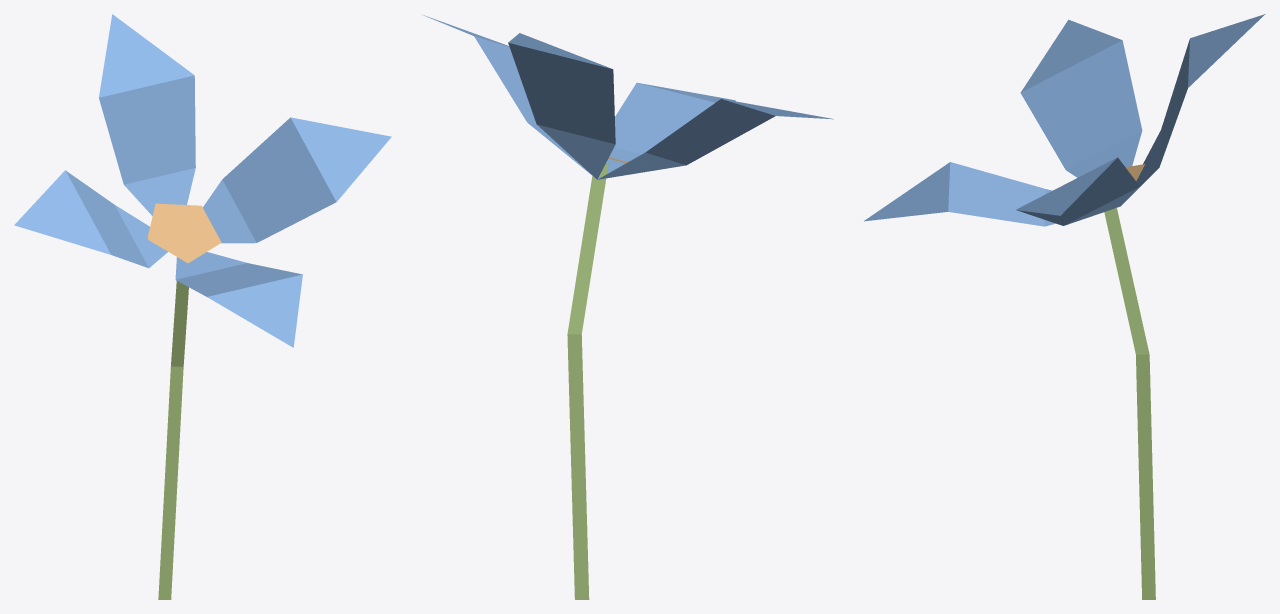
Rendered from flower4.fbx.
3 renders of one model, left to right at view 1: azimuth 30°, elevation 25°; view 2: azimuth 150°, elevation 25°; view 3: azimuth 270°, elevation 25°, orthographic. The views are drawn at different scales.
Visible parts, largest first — view 1: Flower_a_TwoS_03; view 2: Flower_a_TwoS_03; view 3: Flower_a_TwoS_03.
Boxes of the visible parts, left/top/right/bottom form: Flower_a_TwoS_03: left=14, top=14, right=391, bottom=599; Flower_a_TwoS_03: left=422, top=14, right=833, bottom=599; Flower_a_TwoS_03: left=864, top=14, right=1265, bottom=599.
Size of the model in its own units: 50.54 by 58.33 by 81.12.
Materials: 1 (1 with a texture image).
